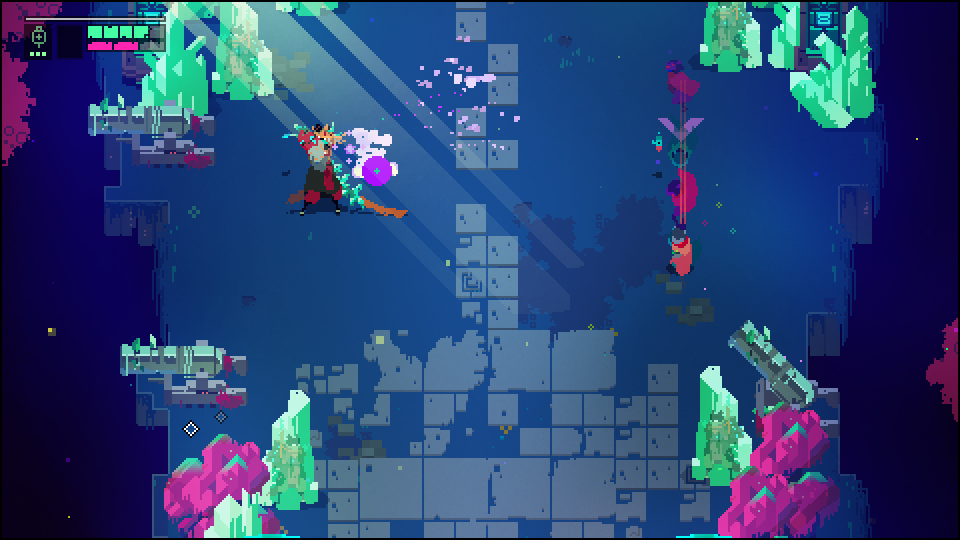hanged_man: (286, 123, 370, 209)
hanged_shot: (361, 157, 390, 185)
player: (668, 228, 695, 283)
